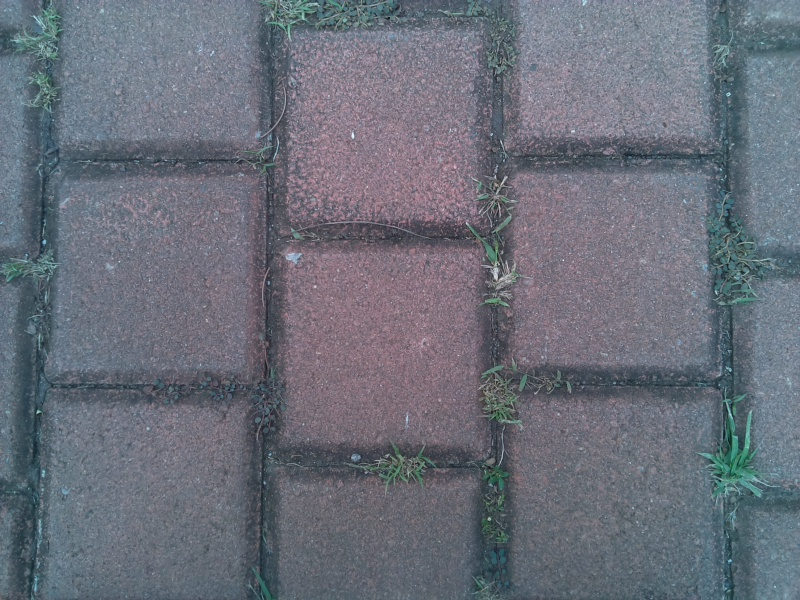Weed: (704, 200, 777, 317), (706, 400, 773, 507), (474, 357, 536, 434), (471, 237, 535, 307), (5, 3, 75, 60), (366, 437, 434, 493), (462, 170, 523, 230), (1, 239, 62, 293), (315, 2, 405, 36), (480, 16, 531, 76), (249, 367, 286, 441), (466, 552, 524, 598), (20, 68, 69, 121), (473, 450, 519, 500), (254, 2, 315, 37), (475, 503, 521, 548), (25, 298, 63, 351), (702, 34, 741, 75), (238, 142, 279, 180)
